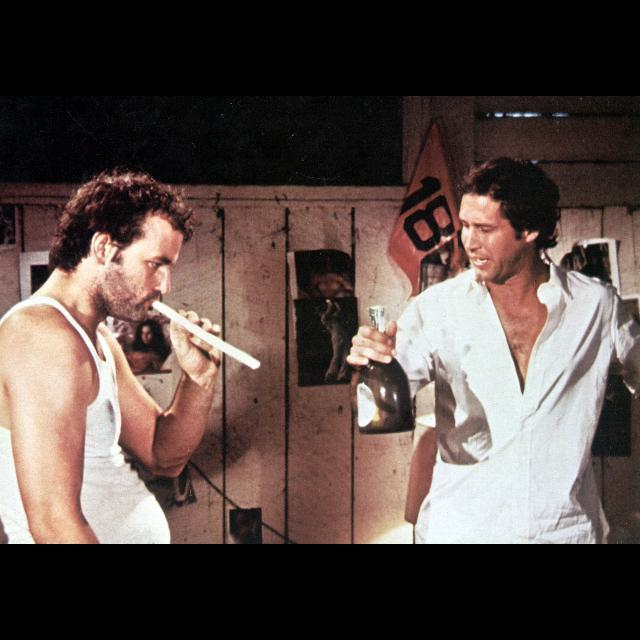rokok: (150, 292, 264, 376)
